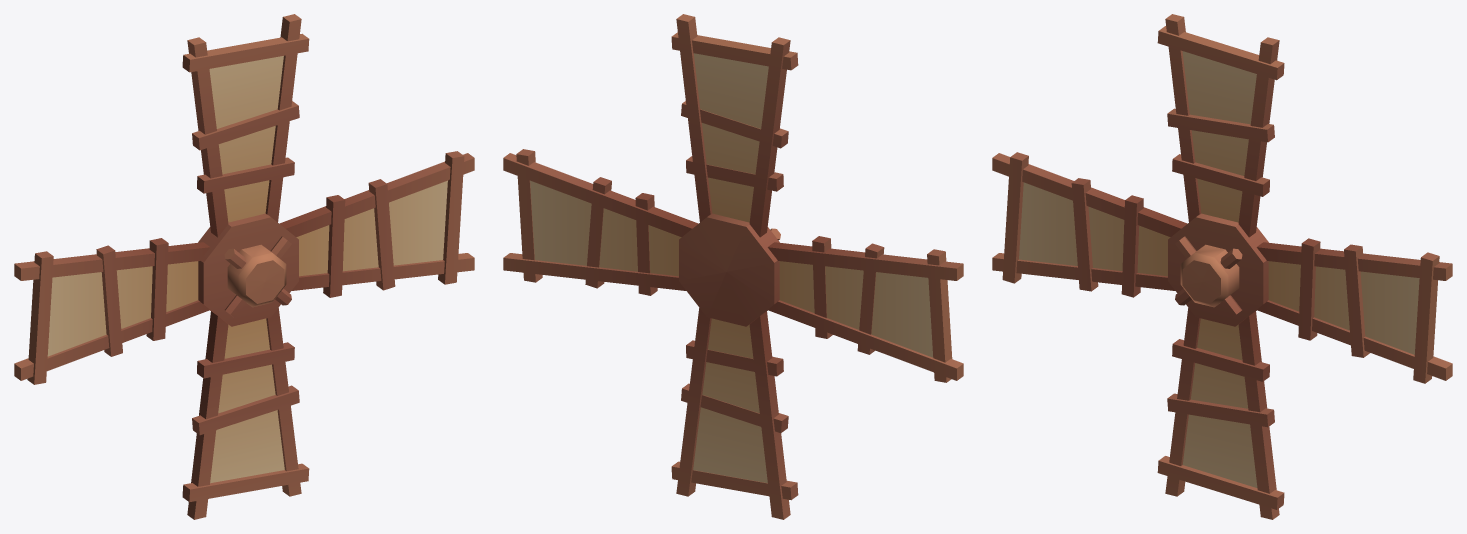
File: windmill-fan.glb
The picture shows the model from 3 angles, left to right: view 1: azimuth 30°, elevation 25°; view 2: azimuth 150°, elevation 25°; view 3: azimuth 330°, elevation 25°; orthographic projection.
Parts seen in each view (by area): view 1: building_windmill_top_fan_red; view 2: building_windmill_top_fan_red; view 3: building_windmill_top_fan_red.
Part boxes in pixels (box(x1,y1,x2,y2)): building_windmill_top_fan_red: box(14, 14, 474, 519); building_windmill_top_fan_red: box(503, 14, 963, 519); building_windmill_top_fan_red: box(992, 14, 1452, 519).
Size of the model in its own units: 1 by 1 by 0.1054.
1 material, 1 textured.
